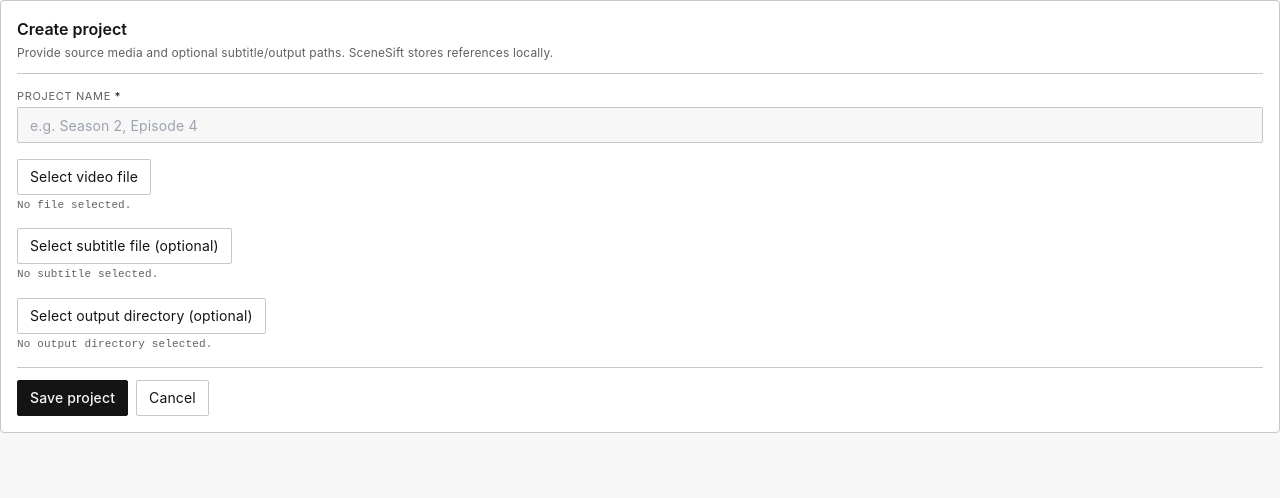
project form › validates required fields
The width and height of the screenshot is (1280, 498).
Click the button "Save project": (72, 398) [17,380,128,416]
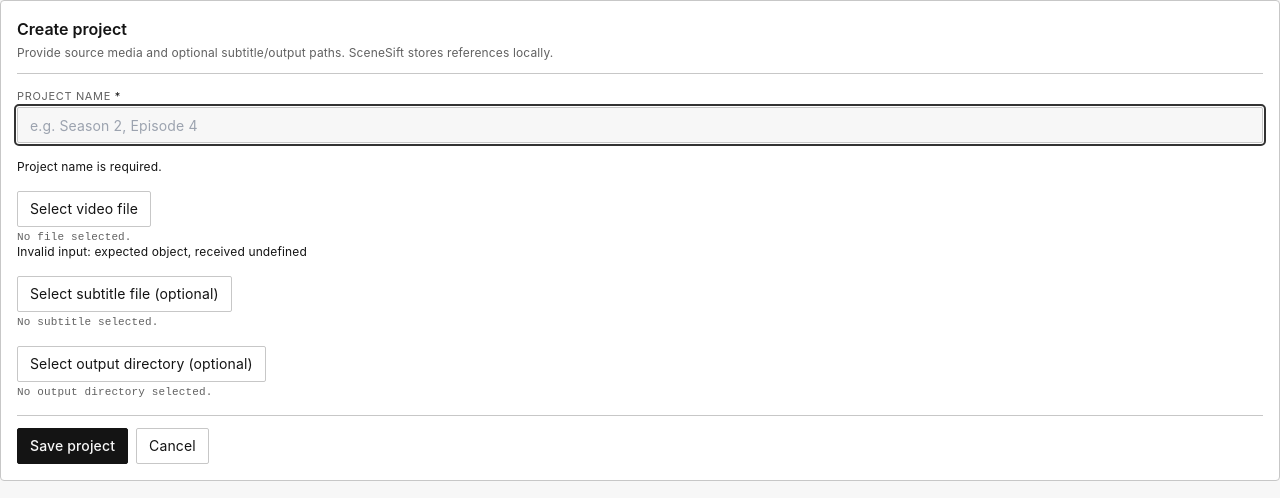
Result: the text "Project name is required." is shown at [17,159,162,174]
Result: the text "Invalid input: expected object, received undefined" is shown at [17,244,307,259]
